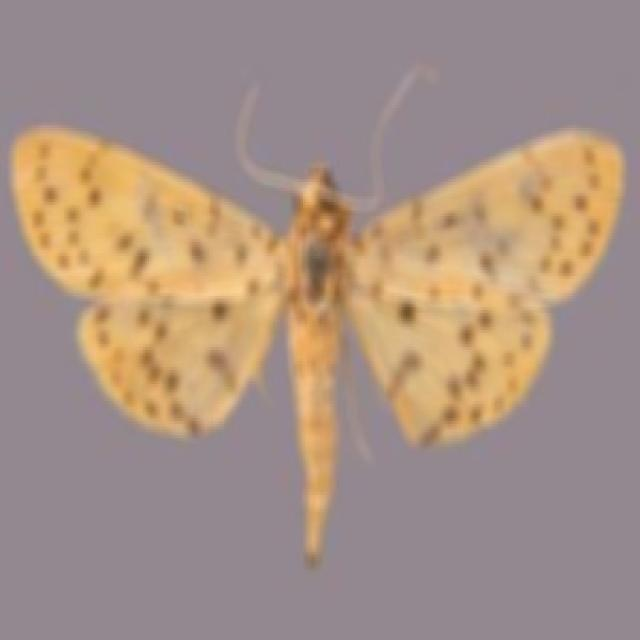peach borer: (8, 52, 621, 564)
